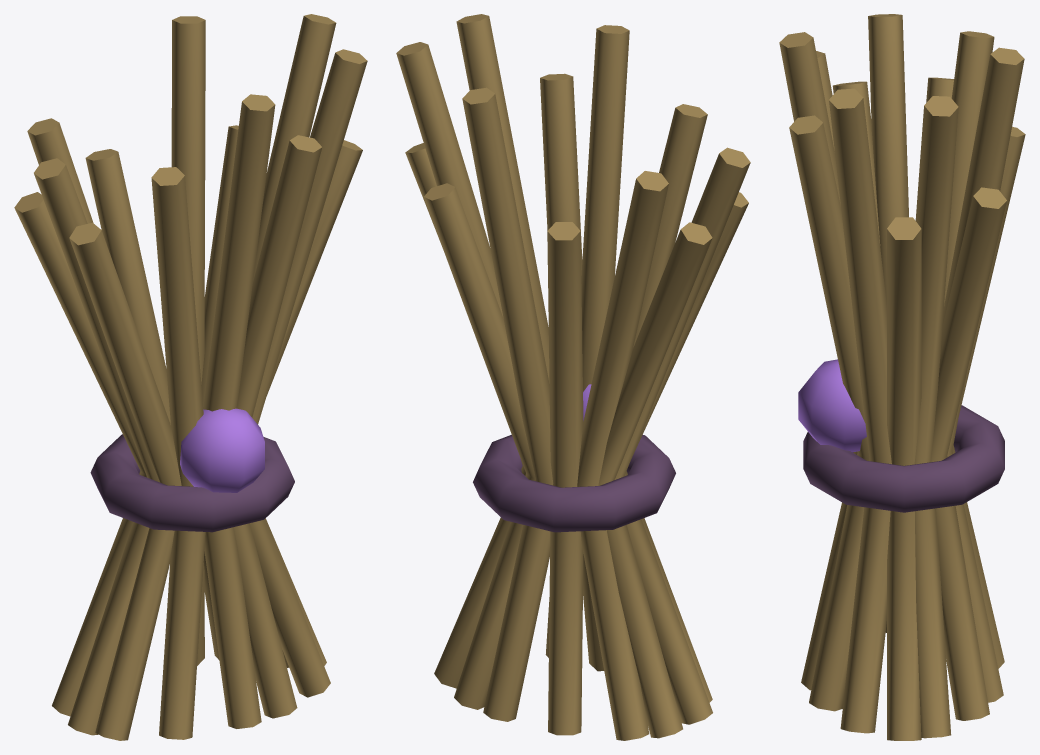
File: cursed_straw.fbx
The picture shows the model from 3 angles, left to right: view 1: azimuth 30°, elevation 25°; view 2: azimuth 150°, elevation 25°; view 3: azimuth 270°, elevation 25°; orthographic projection. The views are drawn at different scales.
Parts seen in each view (by area): view 1: cursed_straw; view 2: cursed_straw; view 3: cursed_straw.
Boxes of the visible parts, box(x1,y1,x2,y2) form: cursed_straw: box(14, 14, 367, 740); cursed_straw: box(396, 14, 750, 740); cursed_straw: box(779, 14, 1025, 740).
Bounding box in the file's own units: 0.3631 × 0.6698 × 0.2276.
